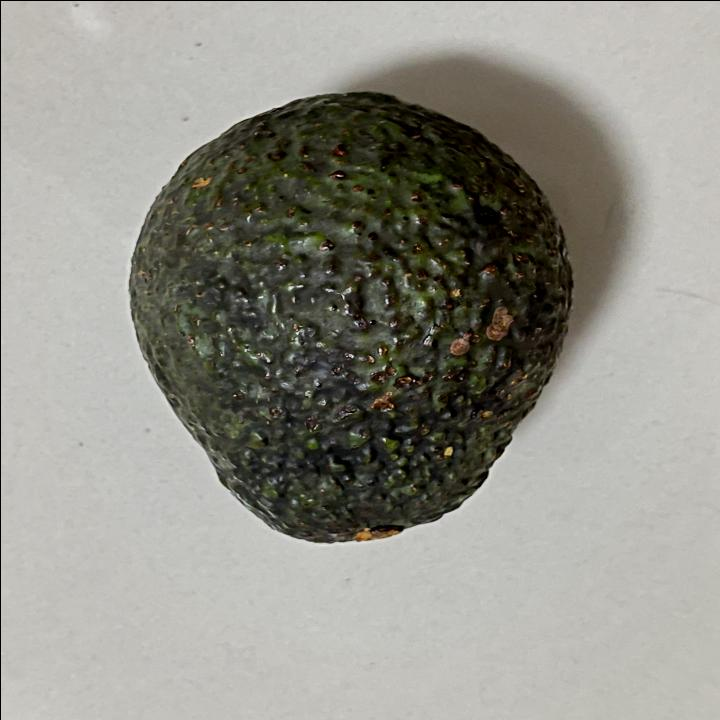Level1: (110, 82, 590, 563)
